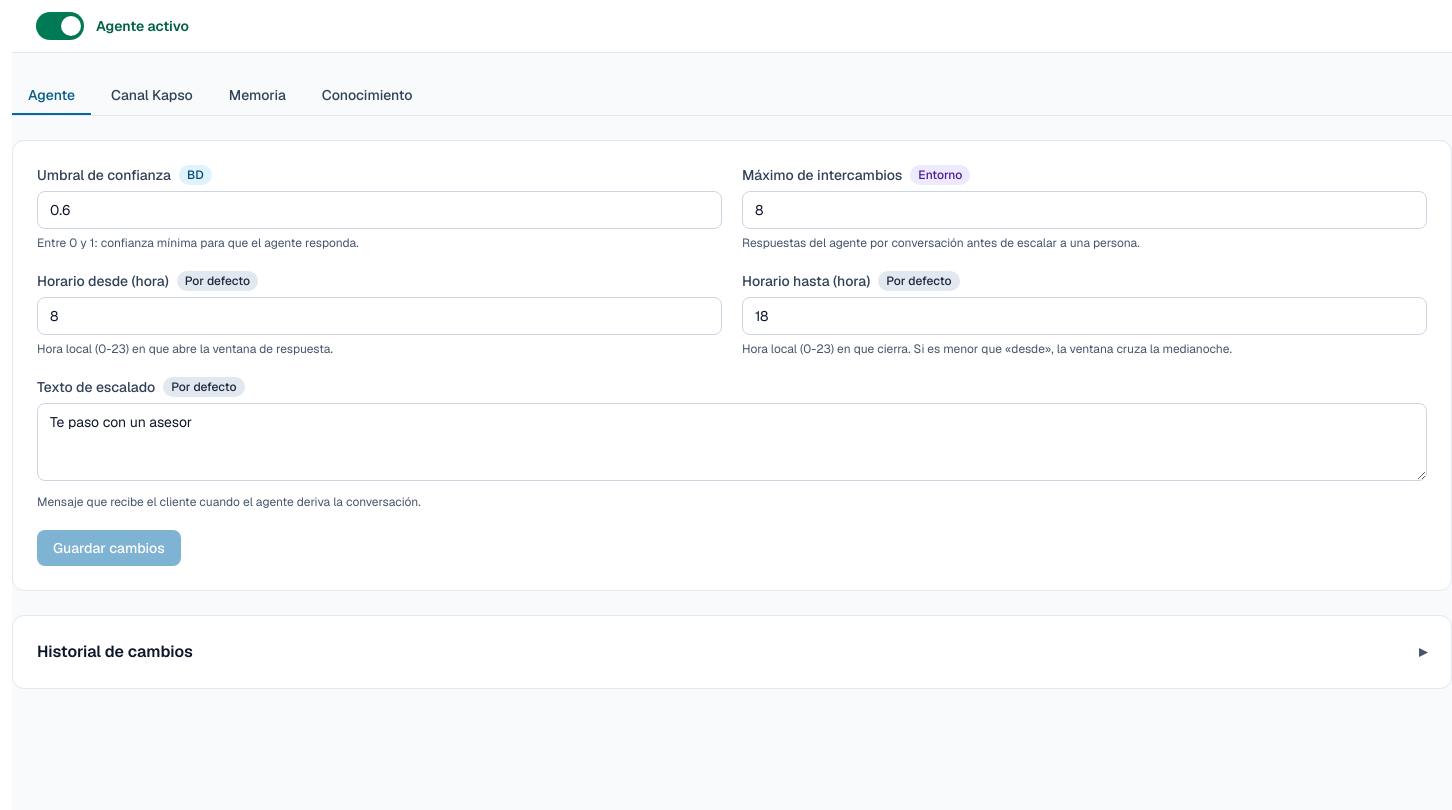
Test: PanelConfiguracion — tab Canal Kapso › CLAVE_NO_CONFIGURADA: aviso bloqueante y edición de secretos deshabilitada
Step 1. Click the tab "Canal Kapso" → coordinates (152, 96), box [95,77,209,115]
(page scrolled)
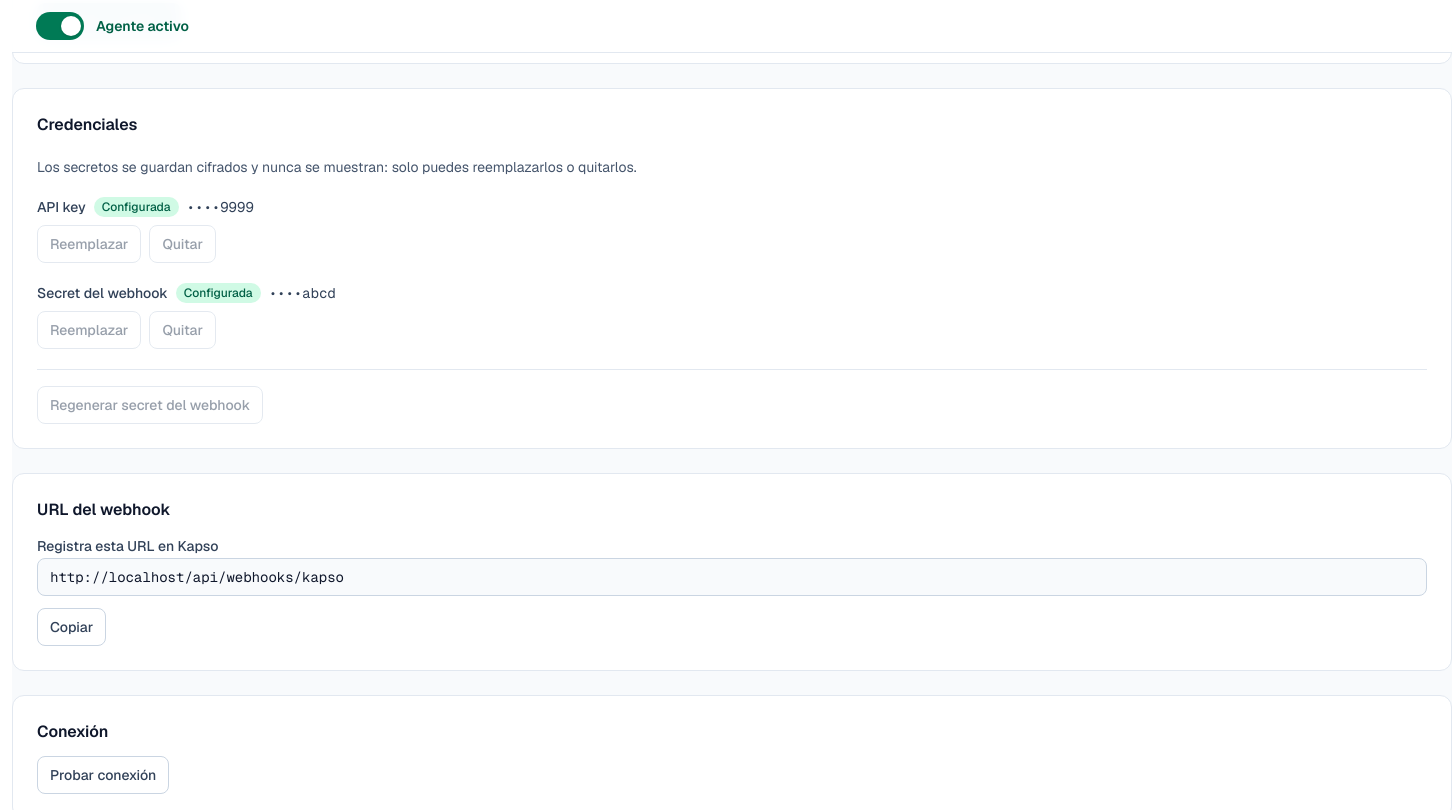
Check: the button with aria-label "Reemplazar API key" is disabled, box [37,225,141,263]
Check: the button "Regenerar secret del webhook" is disabled, box [37,386,263,424]
